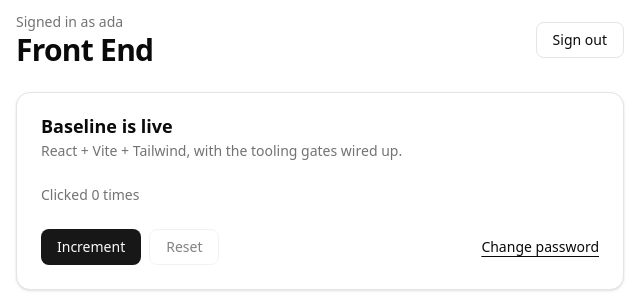
Showcase › counts each click
Click the button "Increment".
click(91, 247)  # box [41,229,141,265]
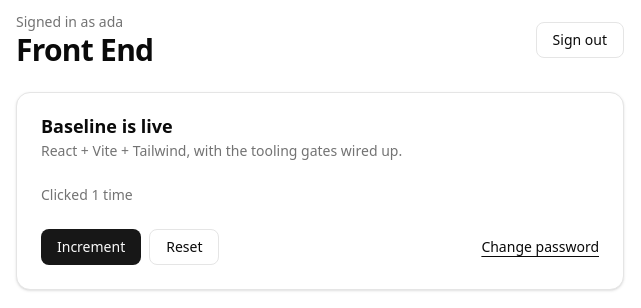
Click the button "Increment".
click(91, 247)  # box [41,229,141,265]
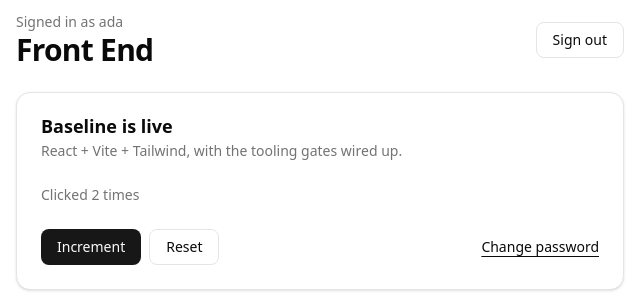
Result: the text with test id "count" reads "Clicked 2 times" at [41,185,139,204]
